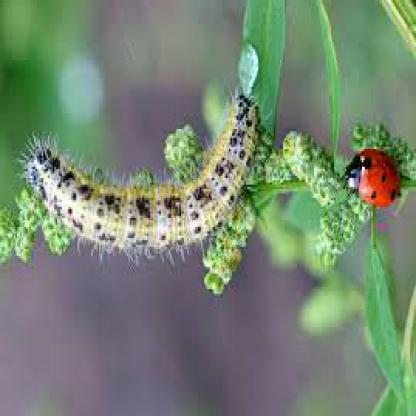pieris: (30, 88, 262, 258)
